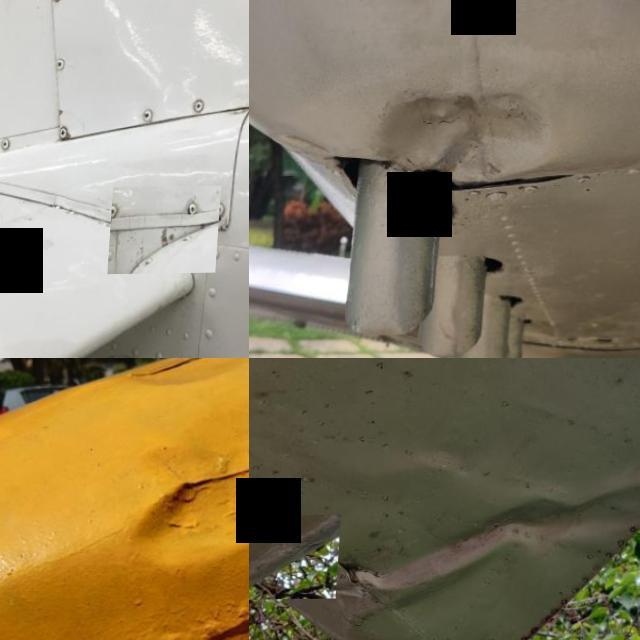Crack: (114, 187, 225, 275), (356, 560, 398, 582)
Dent: (376, 458, 640, 622), (361, 74, 574, 205), (107, 436, 249, 602), (249, 515, 345, 600)
